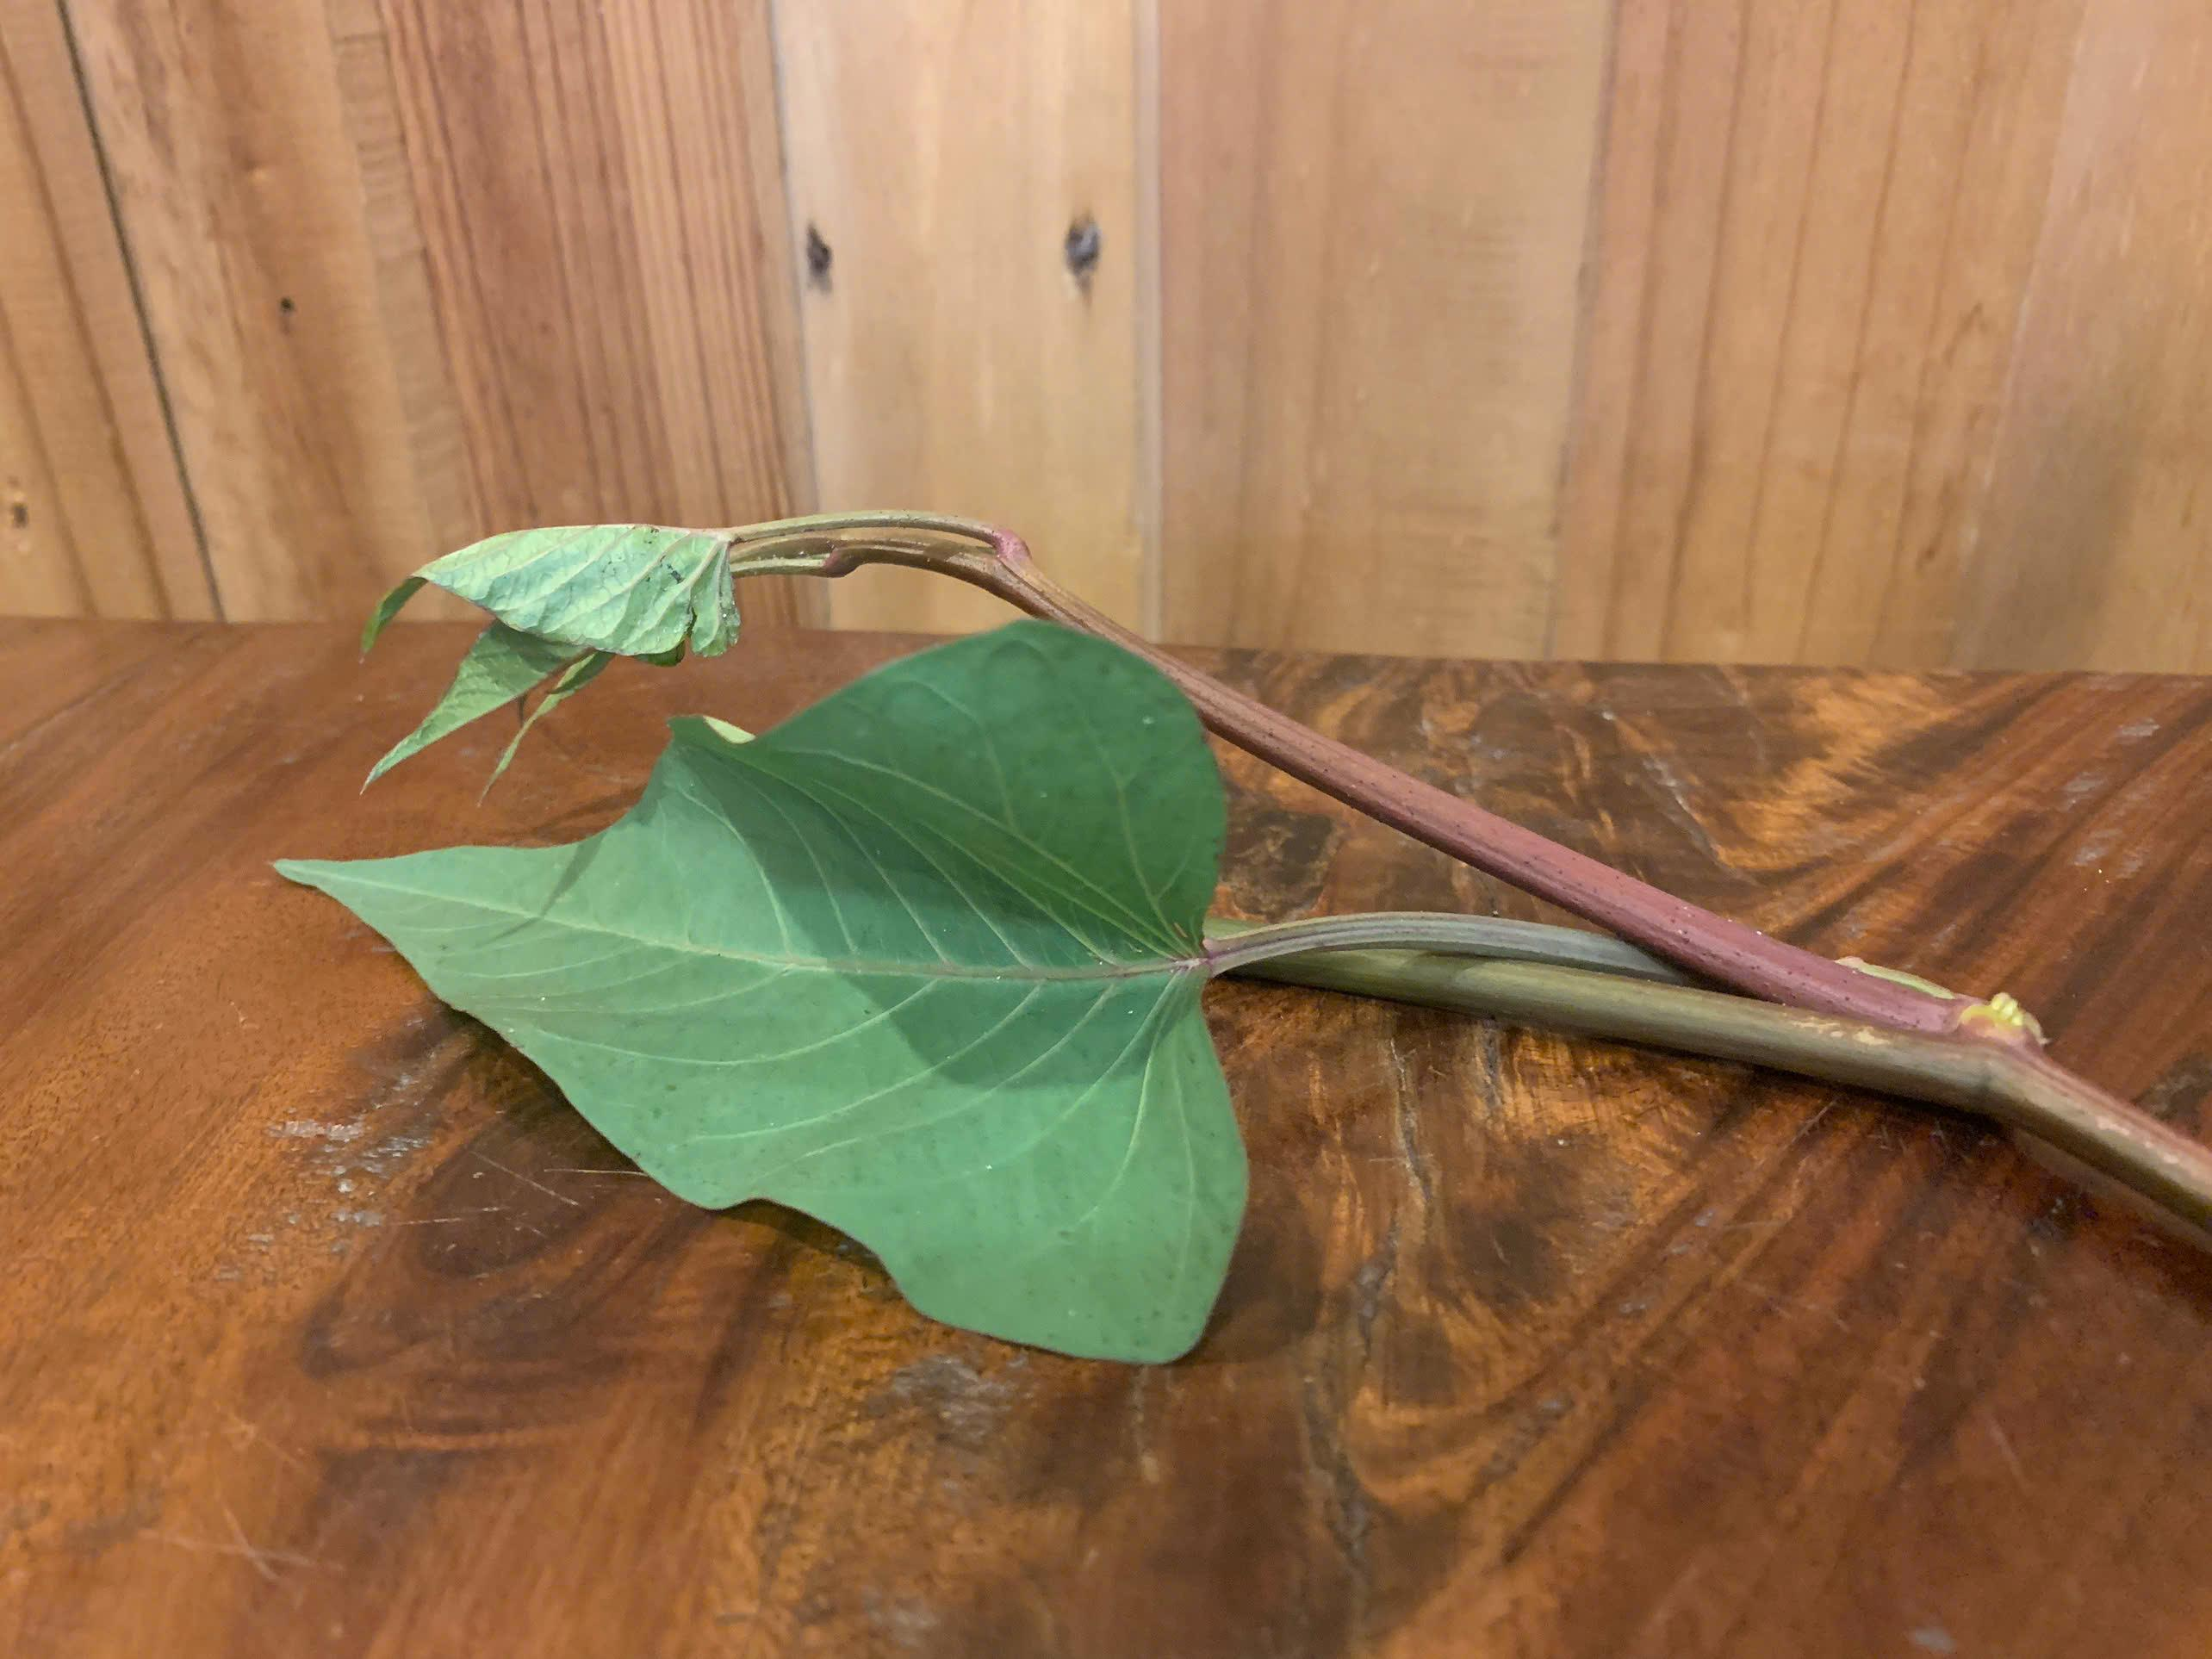Huu co: (305, 514, 2212, 1352)
